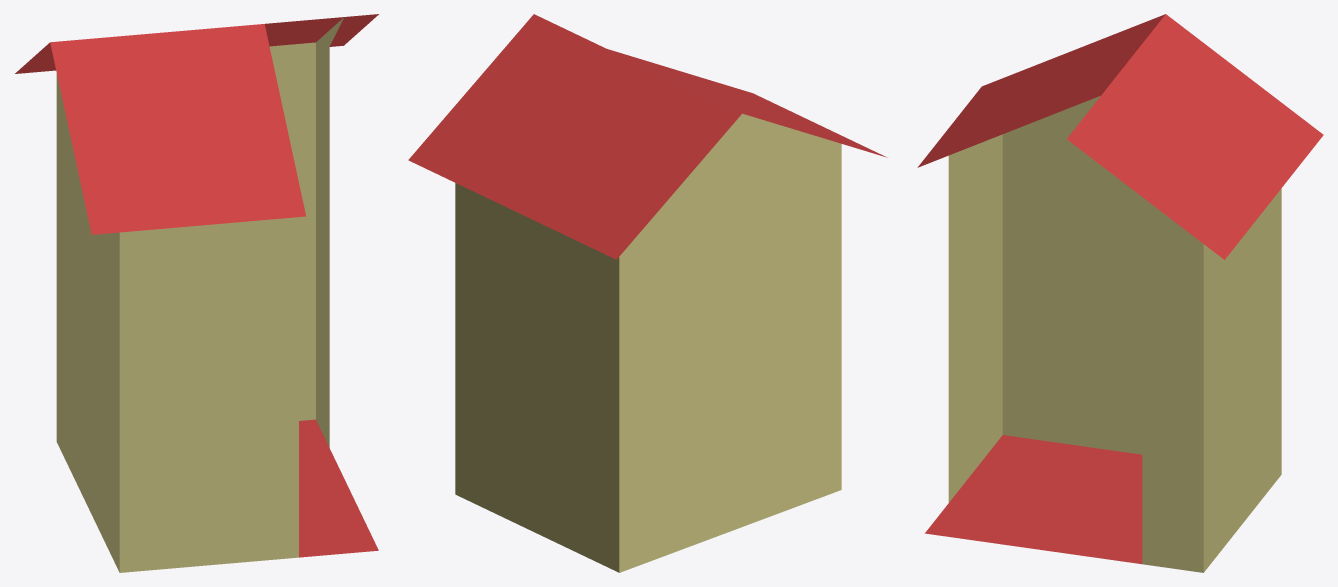
3 renders of one model, left to right at view 1: azimuth 30°, elevation 25°; view 2: azimuth 150°, elevation 25°; view 3: azimuth 270°, elevation 25°, orthographic. The views are drawn at different scales.
Size of the model in its own units: 9.26 by 9.17 by 10.68.
